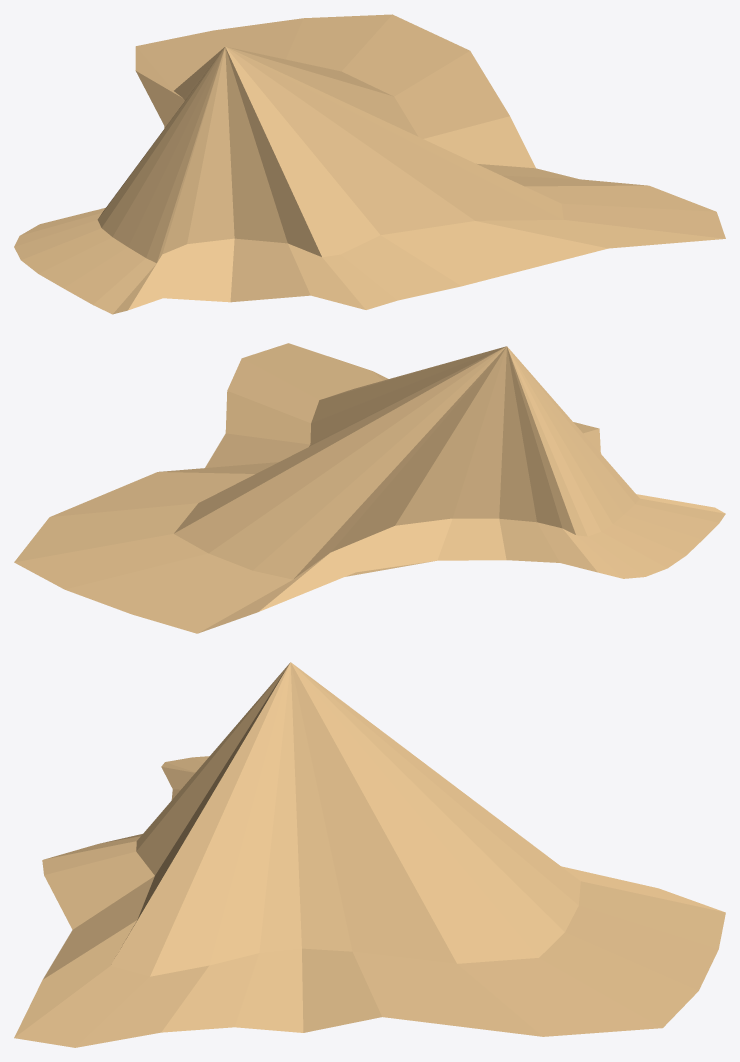
File: sandhill1.fbx
The picture shows the model from 3 angles, top to bottom: view 1: azimuth 30°, elevation 25°; view 2: azimuth 150°, elevation 25°; view 3: azimuth 270°, elevation 25°; orthographic projection. The views are drawn at different scales.
Visible parts, largest first — view 1: Cone.001; view 2: Cone.001; view 3: Cone.001.
Boxes of the visible parts, x1,y1,x2,y2 form: Cone.001: (14, 14, 725, 314); Cone.001: (14, 343, 725, 633); Cone.001: (14, 662, 725, 1047).
Bounding box in the file's own units: 3521 × 1188 × 3635.
